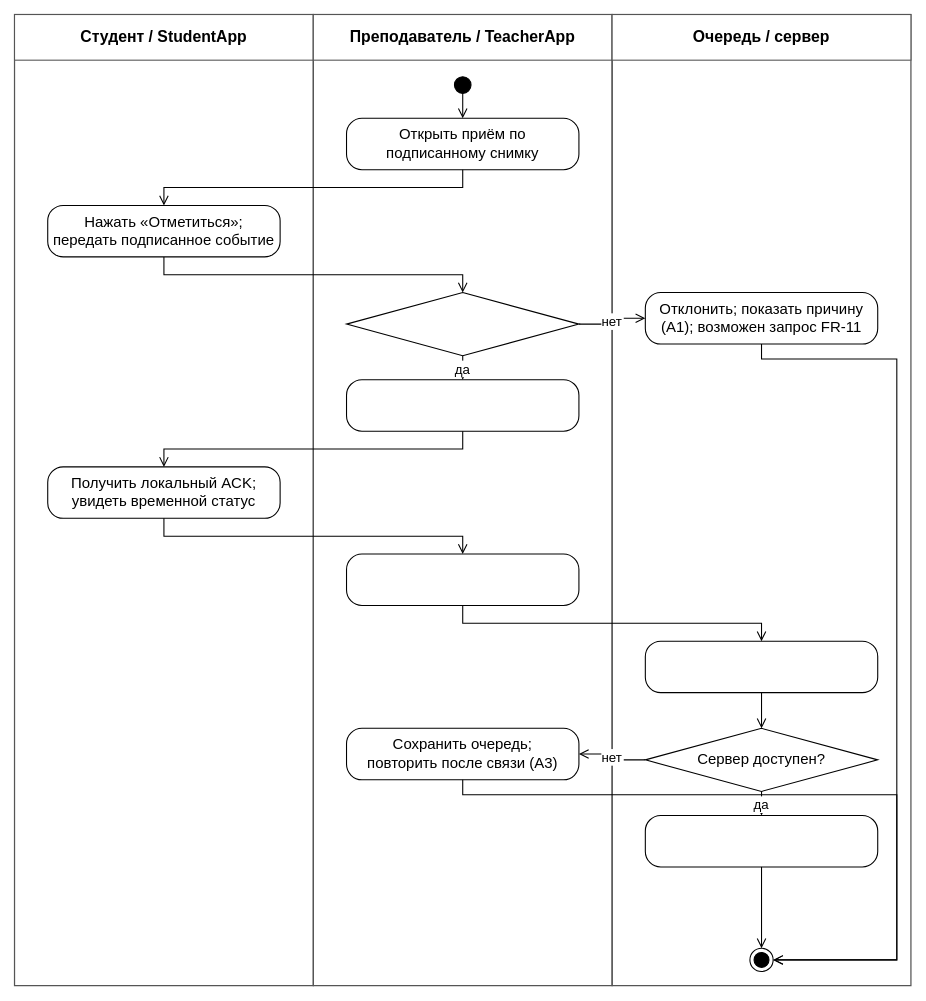
The diagram is 926 pixels wide and 1001 high, and some of its shapes have lost their labels. The box of each missing label's shape, as (x1, y1, x2, y2) in pixels:
Закрыть приём; сформировать список: (346, 553, 579, 606)
Передать пакет; повторно проверить события: (644, 640, 878, 693)
Проверки пройдены?: (346, 292, 579, 356)
Сохранить ACK / конфликт; показать результат: (644, 815, 878, 867)
Сохранить конверт в зашифрованный Outbox: (346, 379, 579, 431)
